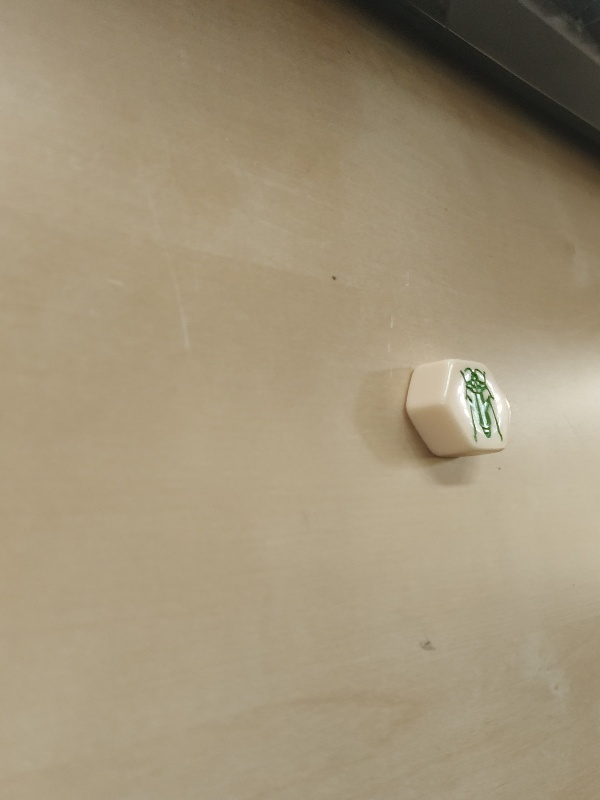white_grasshopper: (407, 357, 510, 457)
